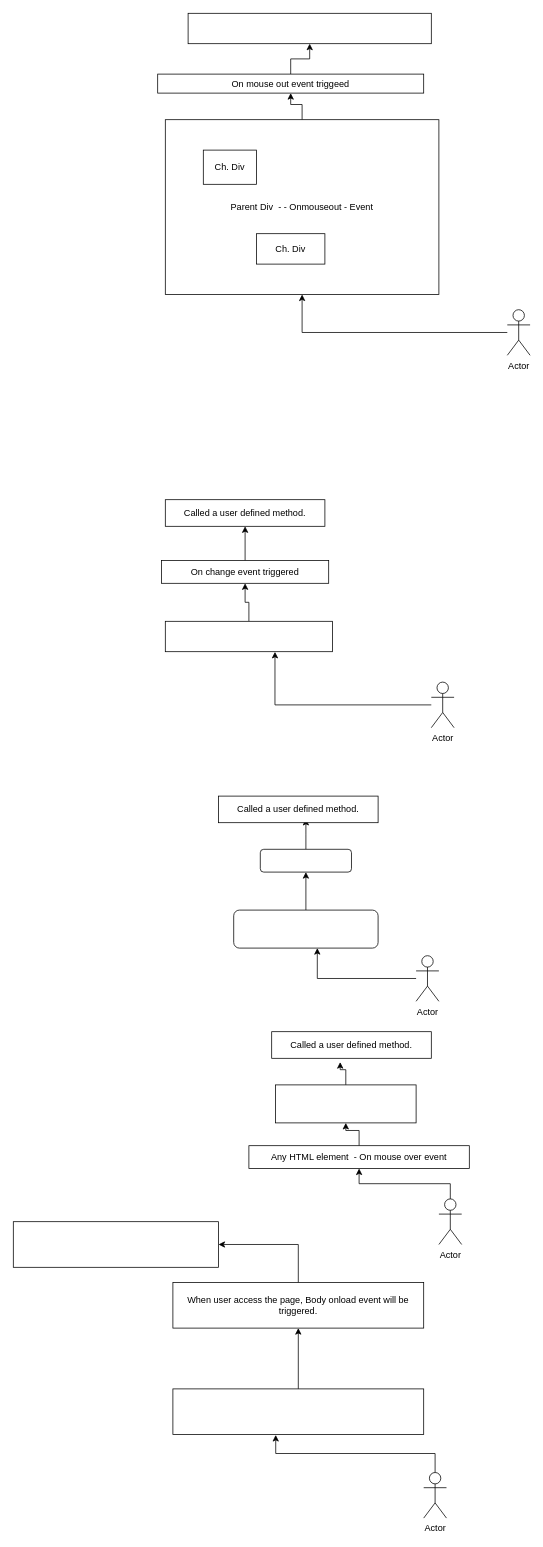
This 543x1547 diagram has some shape labels left out. The shapes that lost their labels are listed below. From the top down, each one's centre as x and y in pixels, then its label:
[309,28]: Custom user method called.
[248,636]: Text box ( On Change event )
[306,860]: Onclick event triggered
[305,928]: Button ( On click event )
[345,1103]: On mouseover event triggered
[115,1244]: User defined method called.
[298,1411]: Body tag - Onload event.
